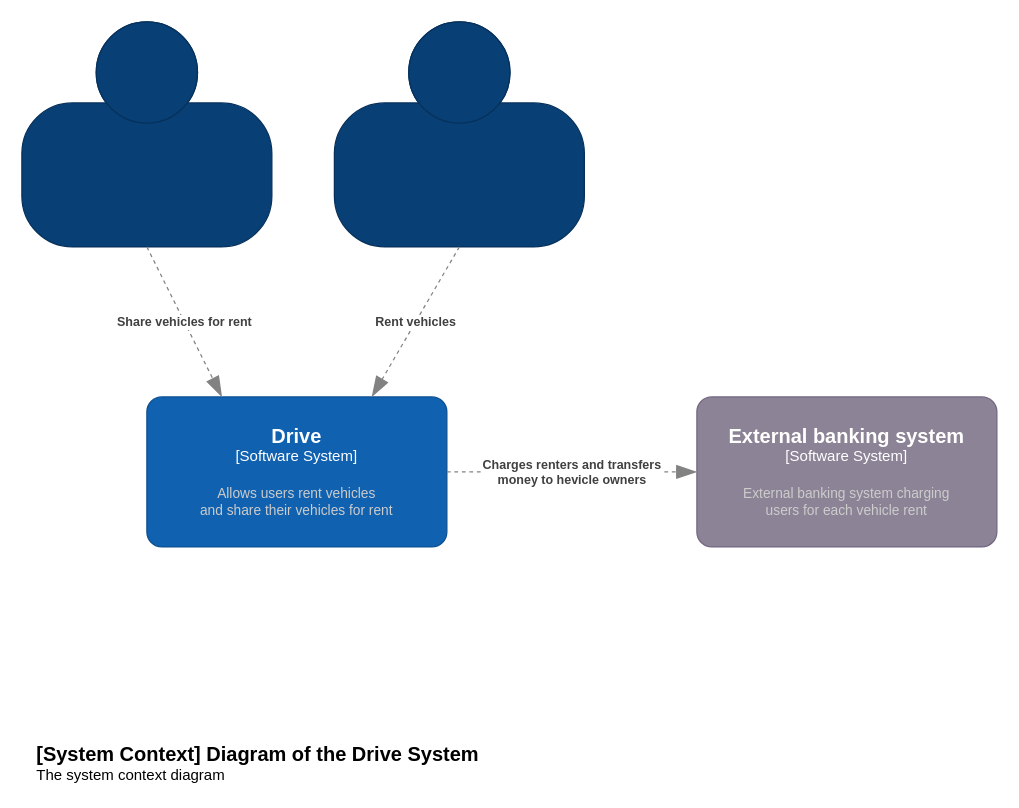
Some shapes in this 1019 by 808 pixel diagram are drawn without their labels. The shapes that lost their labels are listed below. From the top down, each one's centre as x and y in pixels, then its label:
At point (146, 134): "Vehicle owner [Person] Person whow wants to provide rental vehicle".
At point (458, 134): "Renter [Person] Person who wants to rent a vehicle".
